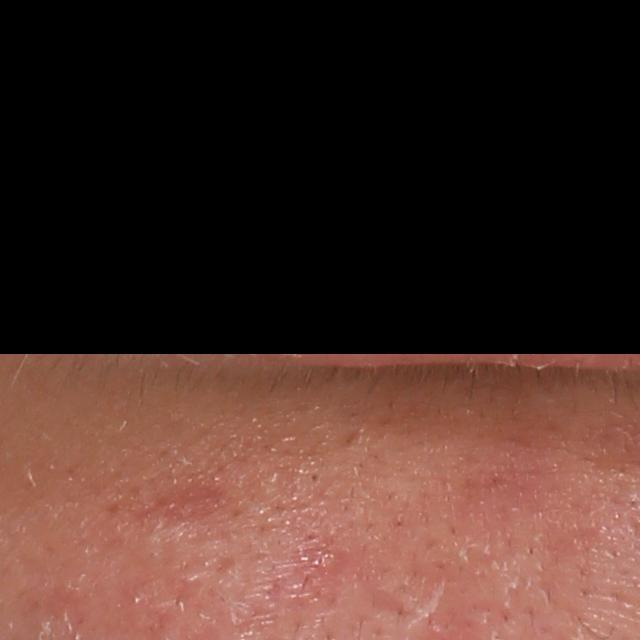atrophic_scar: (137, 486, 225, 525), (339, 428, 364, 446)
comedo: (307, 472, 321, 485)
